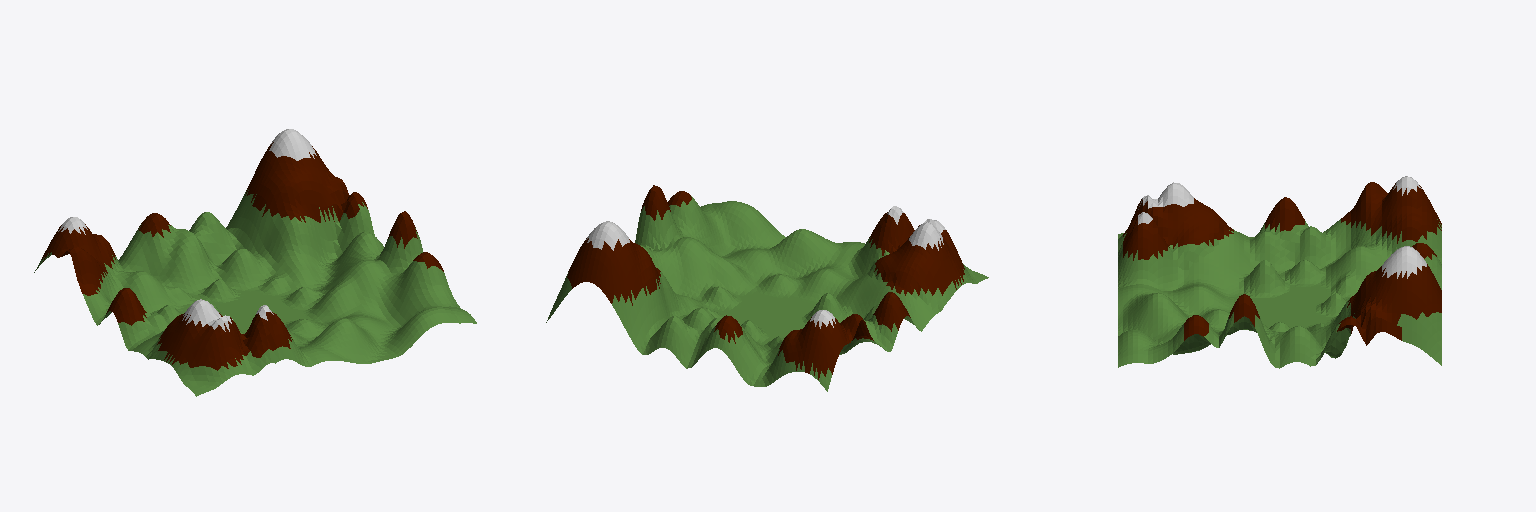
File: land.obj
The picture shows the model from 3 angles: view 1: azimuth 30°, elevation 25°; view 2: azimuth 150°, elevation 25°; view 3: azimuth 270°, elevation 25°; orthographic projection.
Parts seen in each view (by area): view 1: Plane; view 2: Plane; view 3: Plane.
Part boxes in pixels (bbox=[...]): Plane: bbox=[34, 129, 476, 396]; Plane: bbox=[546, 185, 988, 391]; Plane: bbox=[1118, 176, 1441, 368].
Bounding box in the file's own units: 14.02 × 5.39 × 14.02.